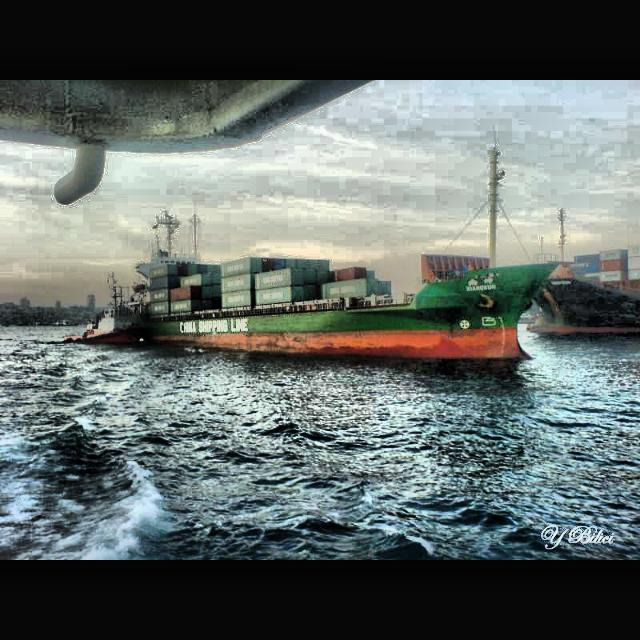container: (134, 212, 558, 362), (522, 222, 640, 338)
tug: (61, 301, 142, 345)
